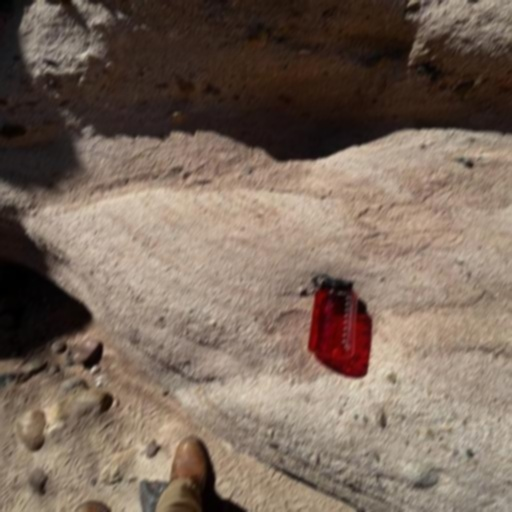bottle: (308, 274, 358, 360)
